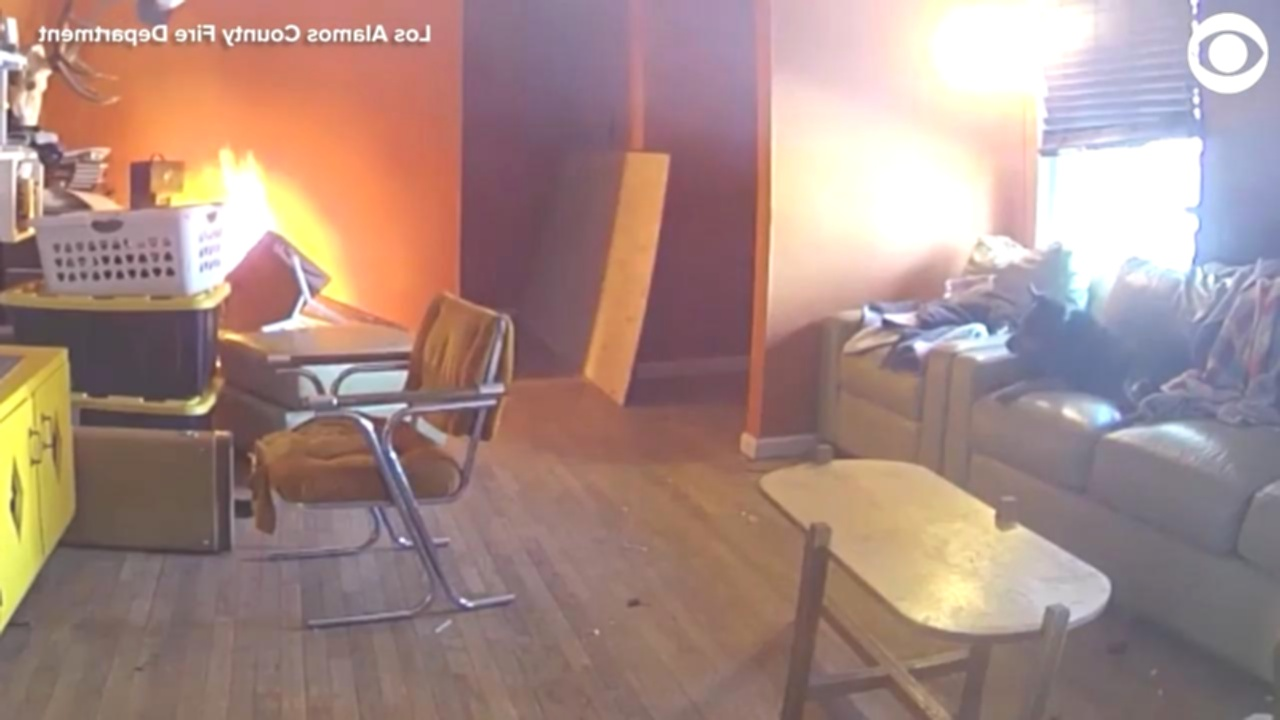fire: (211, 149, 306, 249)
